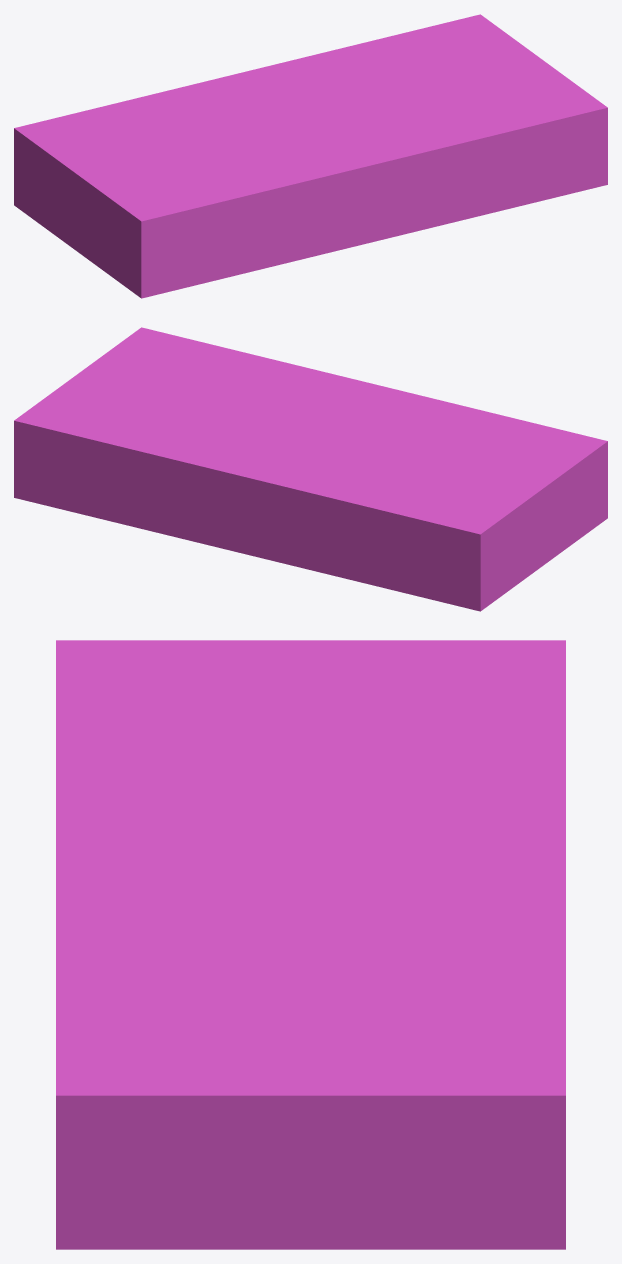
The model's file is enter all together.fbx.
The picture shows the model from 3 angles, top to bottom: view 1: azimuth 30°, elevation 25°; view 2: azimuth 150°, elevation 25°; view 3: azimuth 270°, elevation 25°; orthographic projection. The views are drawn at different scales.
Parts seen in each view (by area): view 1: Cube; view 2: Cube; view 3: Cube.
Part boxes in pixels (<box>): Cube: <box>14,14,607,298</box>; Cube: <box>14,327,607,611</box>; Cube: <box>56,640,565,1249</box>.
Bounding box in the file's own units: 254 × 40.14 × 120.
